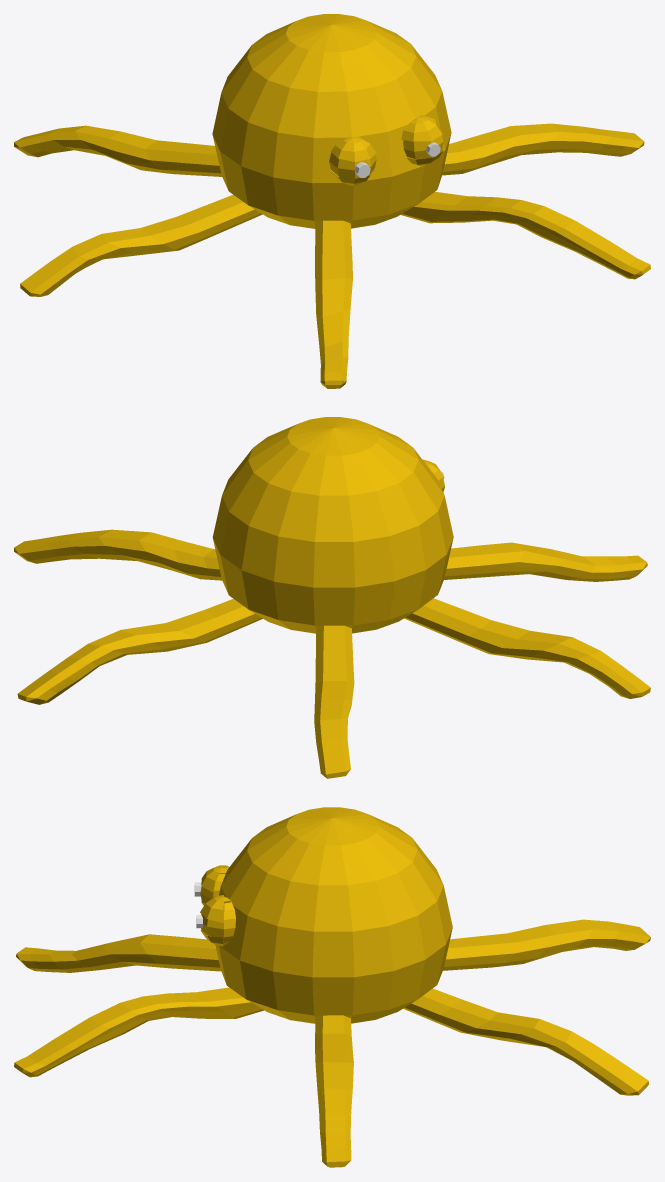
Rendered from octo2.0.fbx.
3 views of the same model, one above another, from view 1: azimuth 30°, elevation 25°; view 2: azimuth 150°, elevation 25°; view 3: azimuth 270°, elevation 25° (orthographic).
Parts seen in each view (by area): view 1: Sphere; view 2: Sphere; view 3: Sphere.
Part boxes in pixels (bbox=[...]): Sphere: bbox=[14, 14, 650, 388]; Sphere: bbox=[14, 417, 650, 778]; Sphere: bbox=[14, 807, 650, 1167].
Size of the model in its own units: 598 by 203 by 528.
